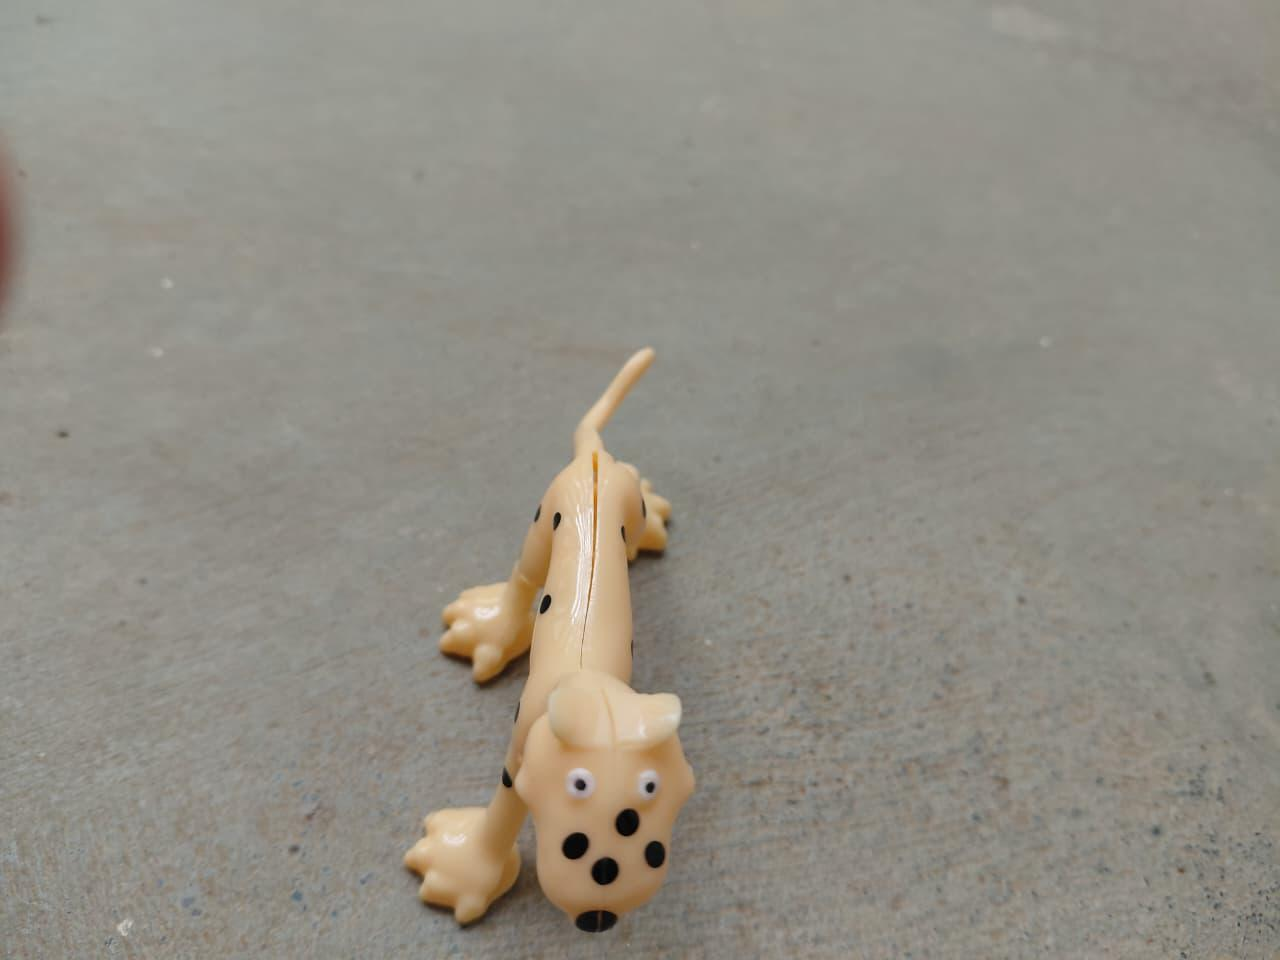cheetah: (372, 338, 709, 943)
